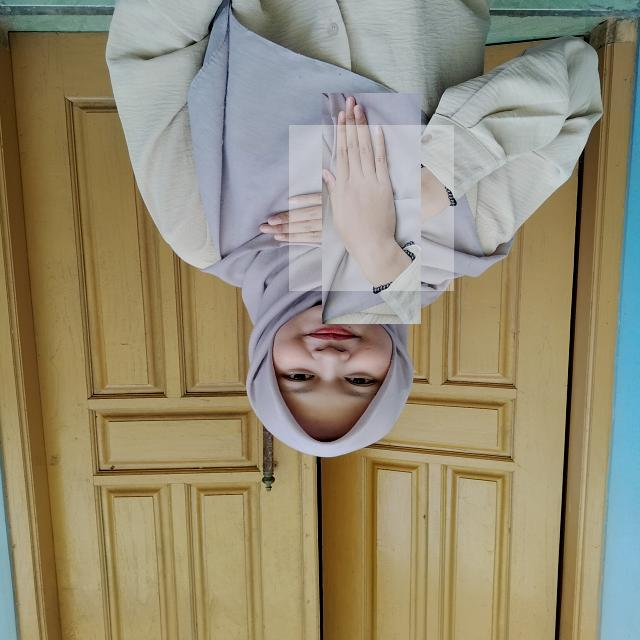tolong: (289, 125, 454, 291)
